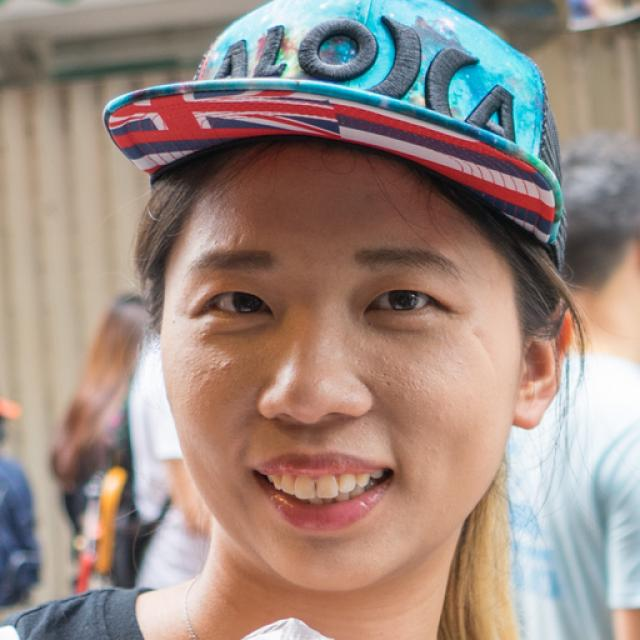Acne: (210, 346, 242, 380)
